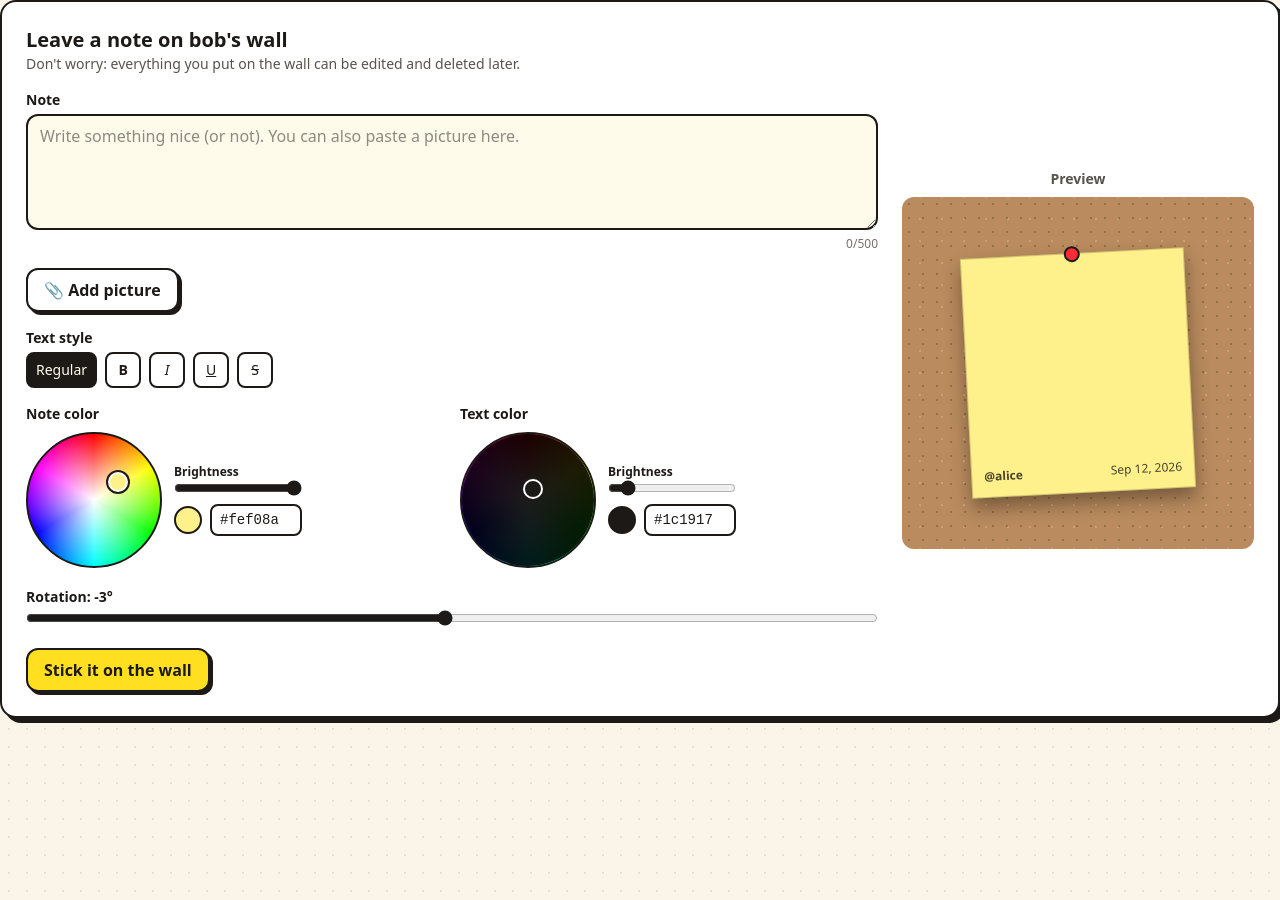
Test: NoteComposer › asks for text or a picture
Click the button "Stick it on the wall": [118, 670] box [26,648,210,692]
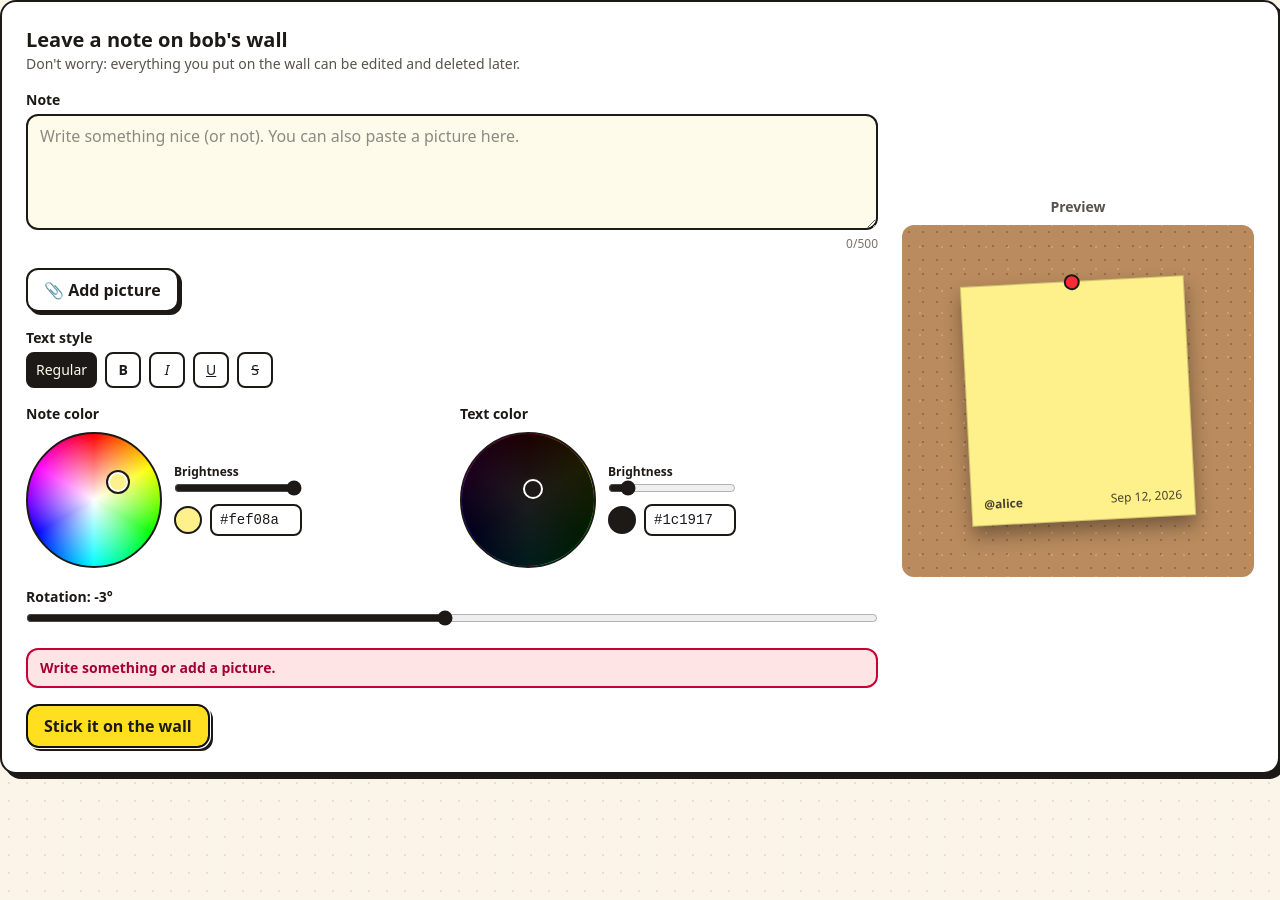
Result: the message reads "Write something or add a picture." at [40,658,275,677]
